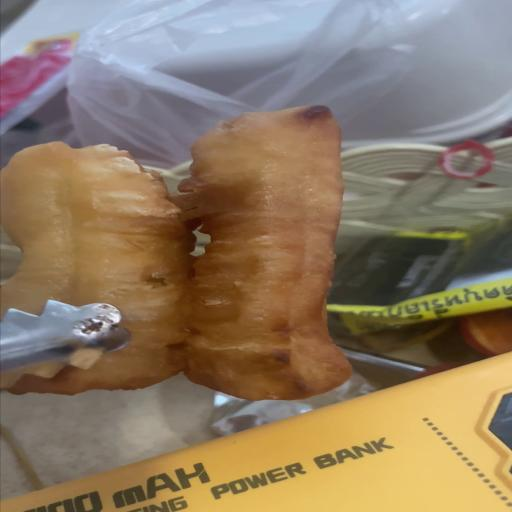street_burnt_defect: (0, 106, 351, 401)
